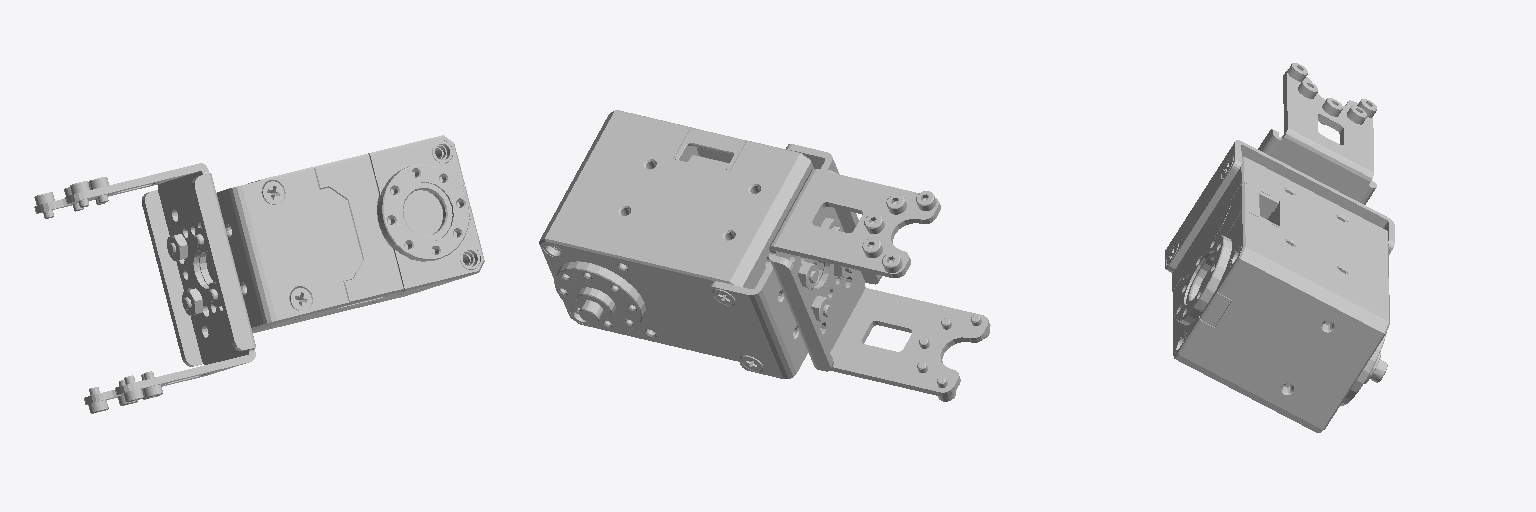
3 renders of one model, left to right at view 1: azimuth 30°, elevation 25°; view 2: azimuth 150°, elevation 25°; view 3: azimuth 270°, elevation 25°, orthographic.
Visible parts, largest first — view 1: Link1_1; view 2: Link1_1; view 3: Link1_1.
Part boxes in pixels (bbox=[...]): Link1_1: bbox=[34, 135, 484, 413]; Link1_1: bbox=[539, 110, 990, 401]; Link1_1: bbox=[1165, 63, 1394, 432].
Bounding box in the file's own units: 0.0825 × 0.0487 × 0.0461.